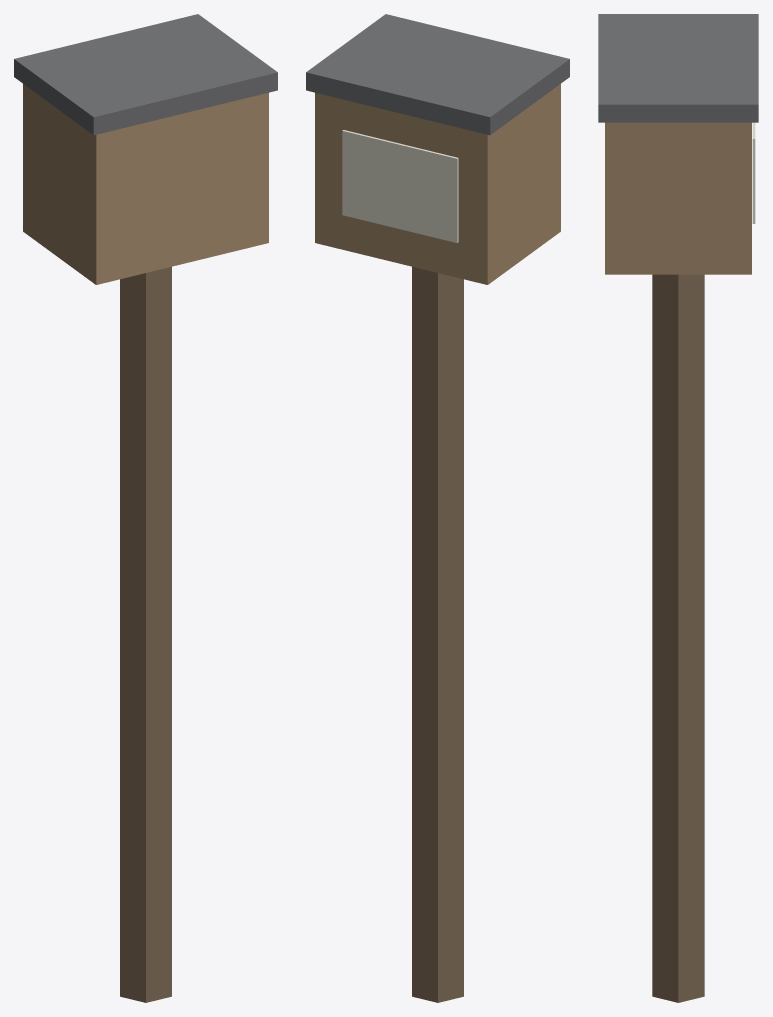
The model's file is subscription_collection_box.glb.
The picture shows the model from 3 angles, left to right: view 1: azimuth 30°, elevation 25°; view 2: azimuth 150°, elevation 25°; view 3: azimuth 270°, elevation 25°; orthographic projection.
Visible parts, largest first — view 1: wood_dk, wood, iron; view 2: wood_dk, wood, iron, poster; view 3: wood_dk, wood, iron, poster.
Boxes of the visible parts, x1,y1,x2,y2 form: wood_dk: [120, 266, 171, 1002]; wood: [23, 84, 268, 284]; iron: [14, 14, 277, 135]; wood_dk: [412, 266, 463, 1002]; wood: [315, 84, 560, 284]; iron: [306, 14, 569, 135]; poster: [342, 130, 458, 242]; wood_dk: [652, 274, 704, 1002]; wood: [605, 122, 751, 274]; iron: [598, 14, 758, 122]; poster: [752, 122, 755, 223].
Bounding box in the file's own units: 0.32 × 1.53 × 0.24.
